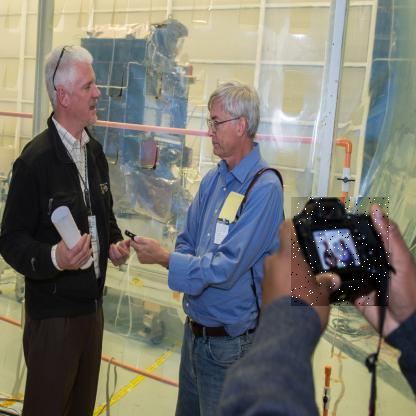Camera: (293, 198, 393, 308)
